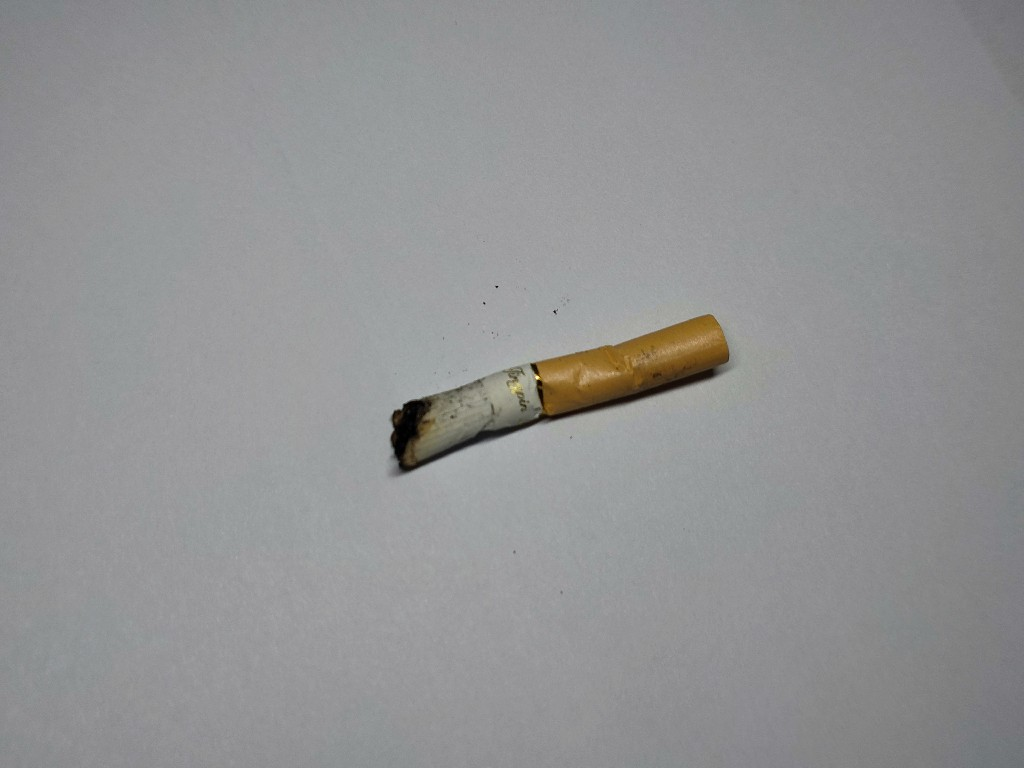cigarette: (389, 309, 738, 476)
